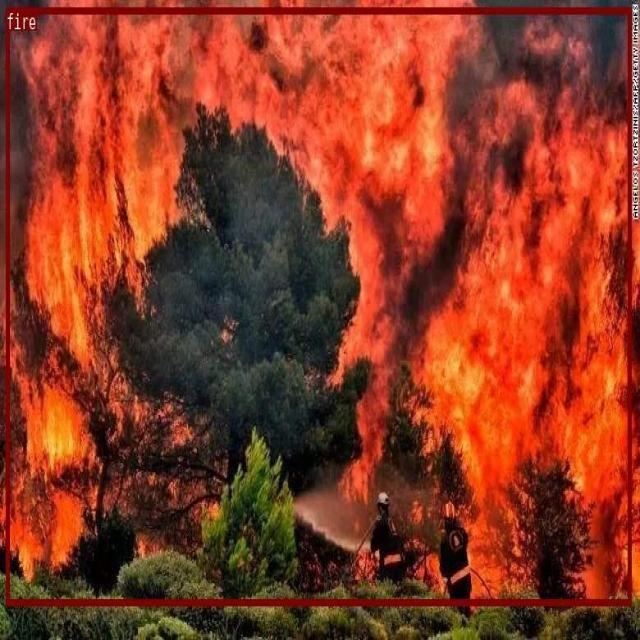fire: (6, 7, 631, 604)
